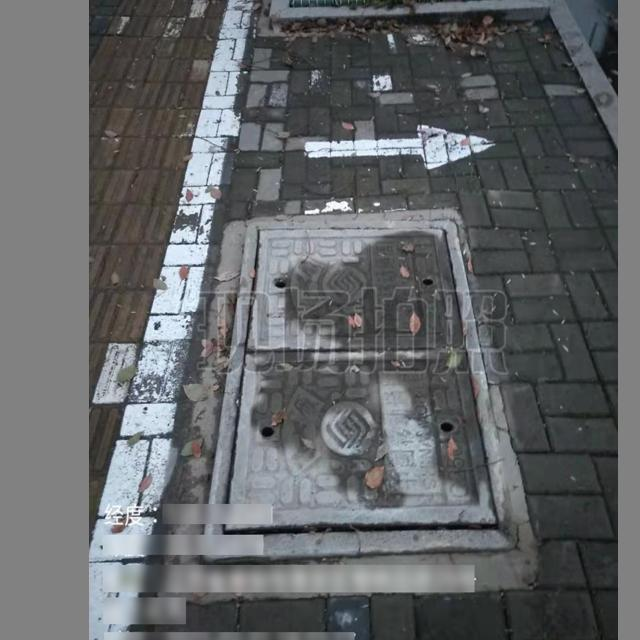good: (197, 219, 515, 559)
